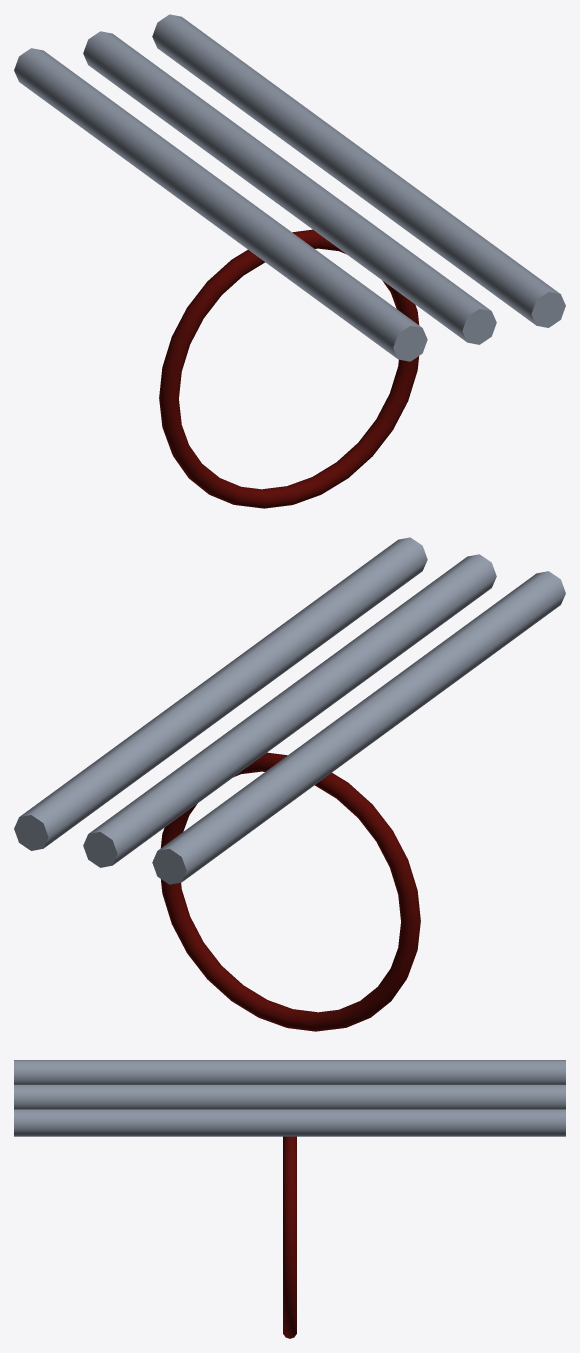
The model's file is material_steel.glb.
3 renders of one model, top to bottom at view 1: azimuth 30°, elevation 25°; view 2: azimuth 150°, elevation 25°; view 3: azimuth 270°, elevation 25°, orthographic. The views are drawn at different scales.
Bounding box in the file's own units: 0.3 × 0.37 × 0.76.
